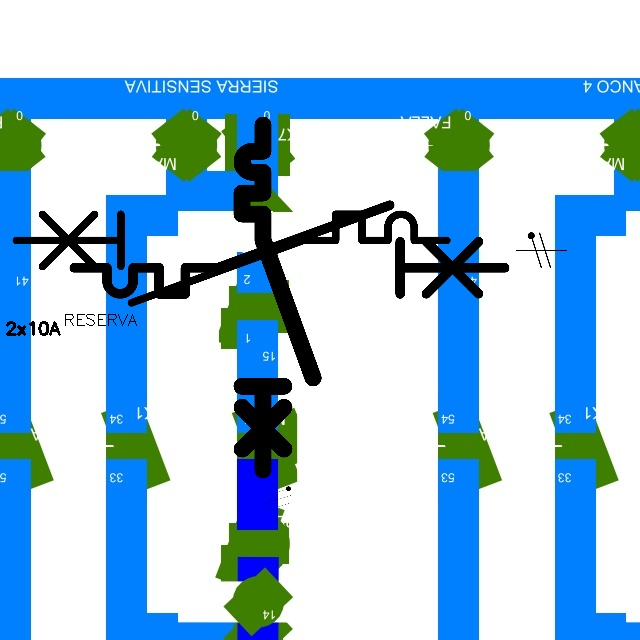interruptor_termomagnetico: (5, 203, 458, 314), (63, 194, 515, 305), (233, 116, 322, 479)
